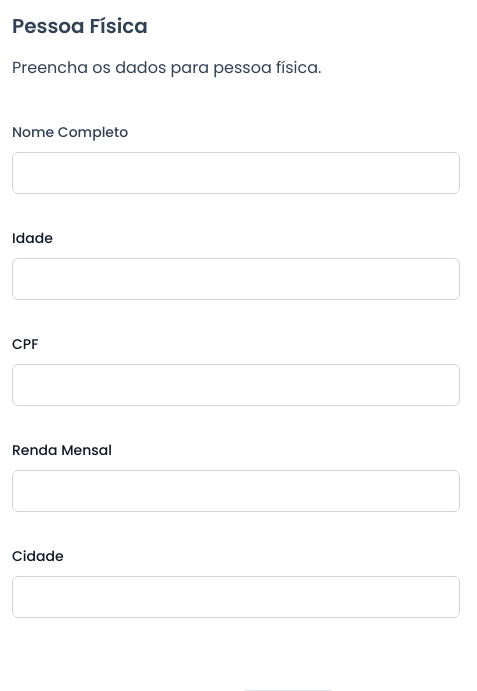
Test: NaturalForm › input validations › should render an error when document is invalid
In the number field labelled "CPF": (236,385) [12,364,460,406], type "1234567890"
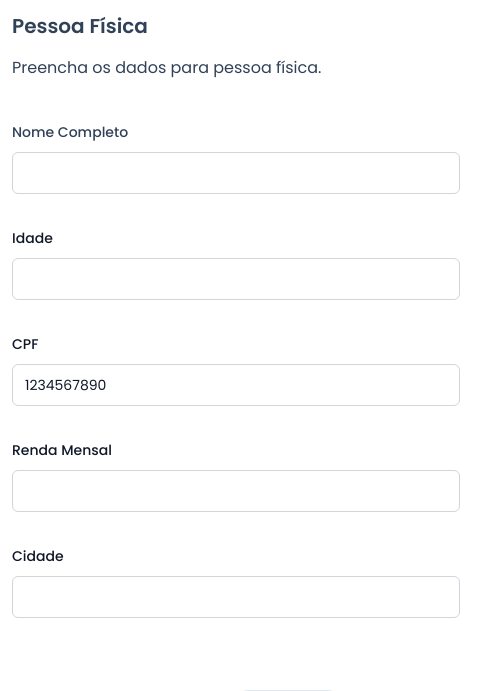
Leave the number field labelled "CPF", box [12,364,460,406]
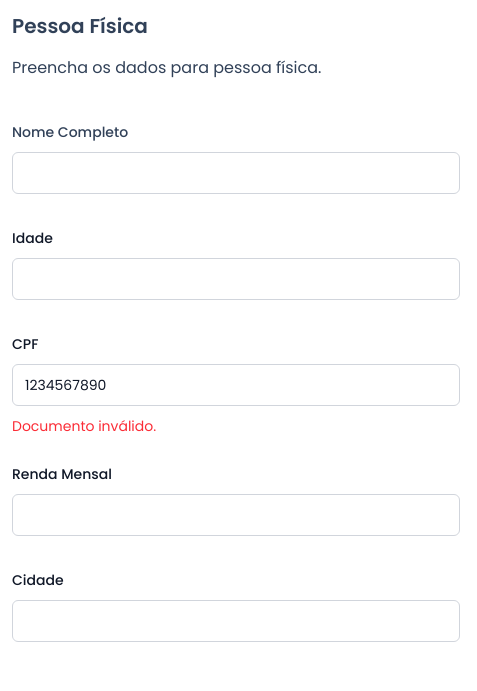
Now the text "Documento inválido." is shown, box [12,416,156,436]
